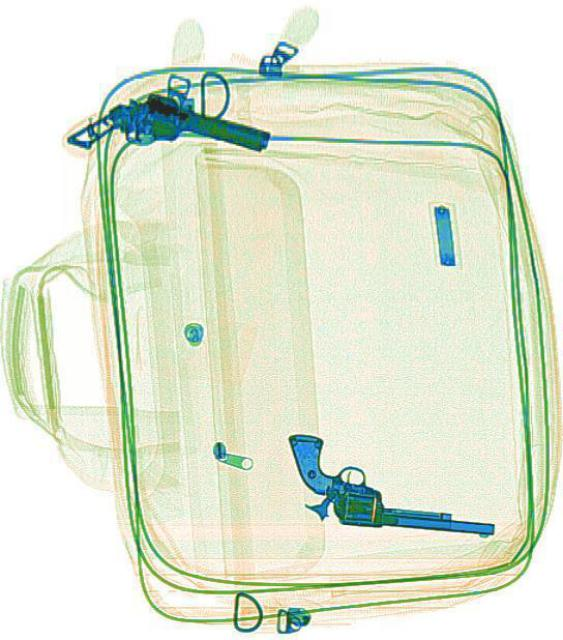Gun: (62, 78, 269, 194), (282, 432, 497, 534)
